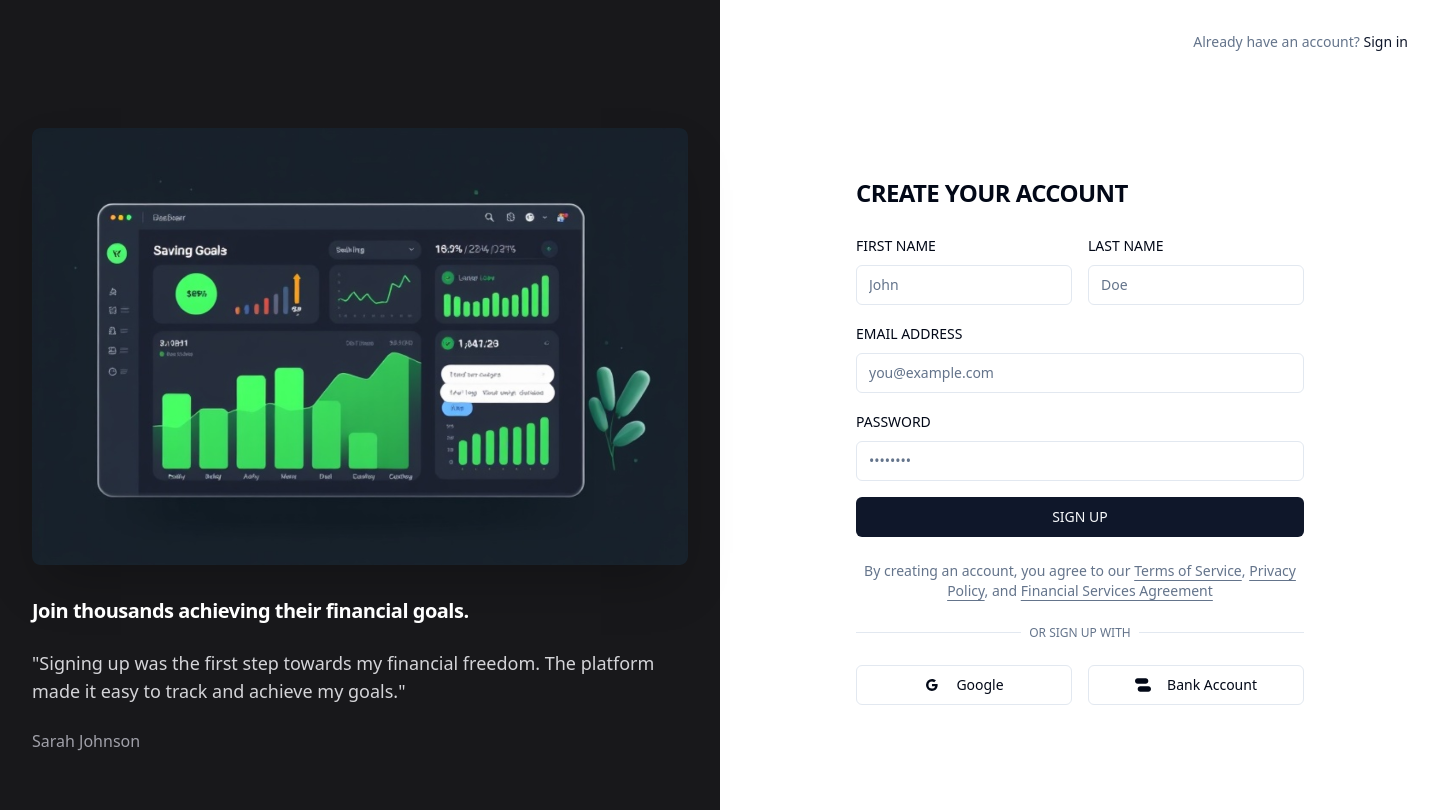
it: Register › should validate password length
In the password field labelled "PASSWORD": (1080, 461) [856,441,1304,481], type "short"
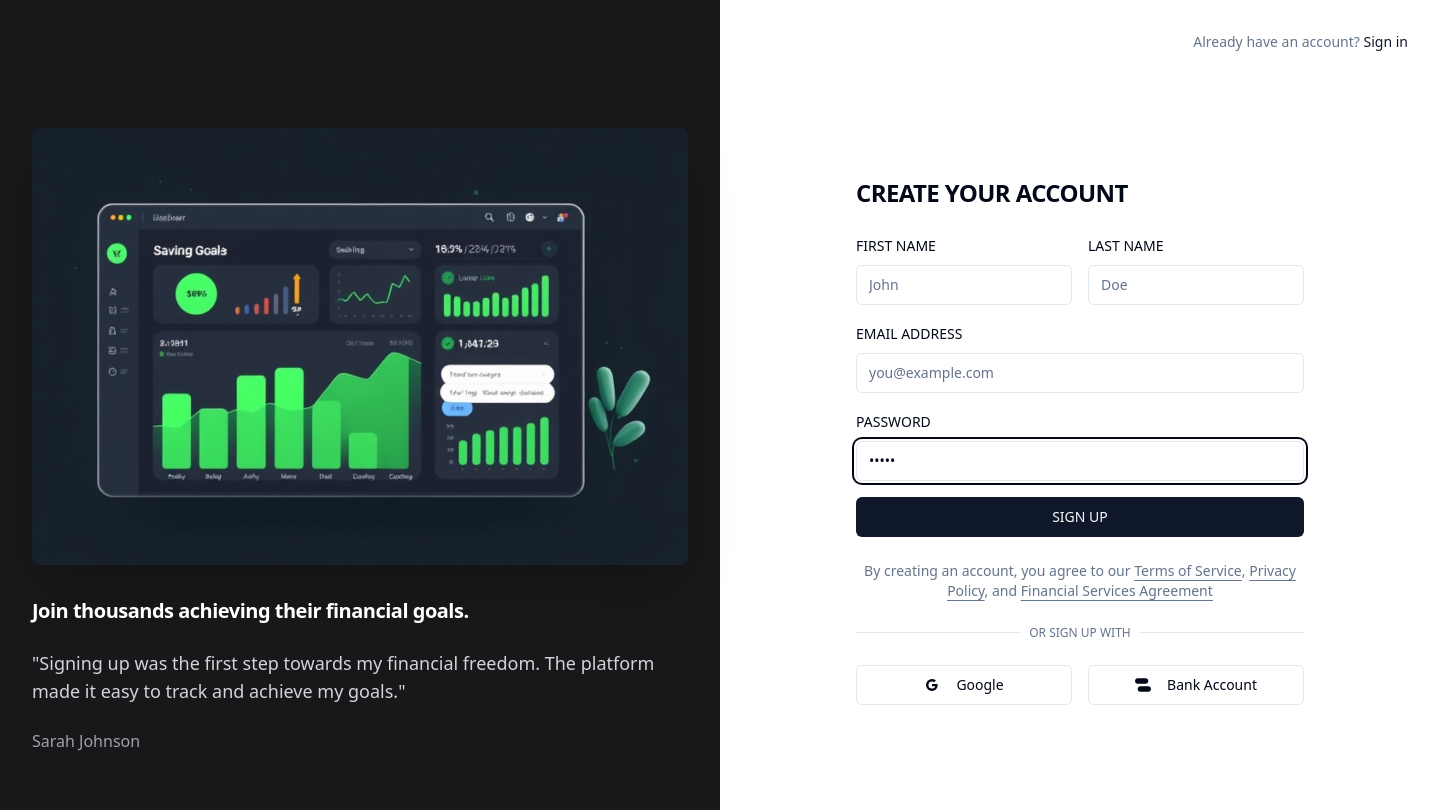
Click the button "SIGN UP": (1080, 517) [856,497,1304,537]
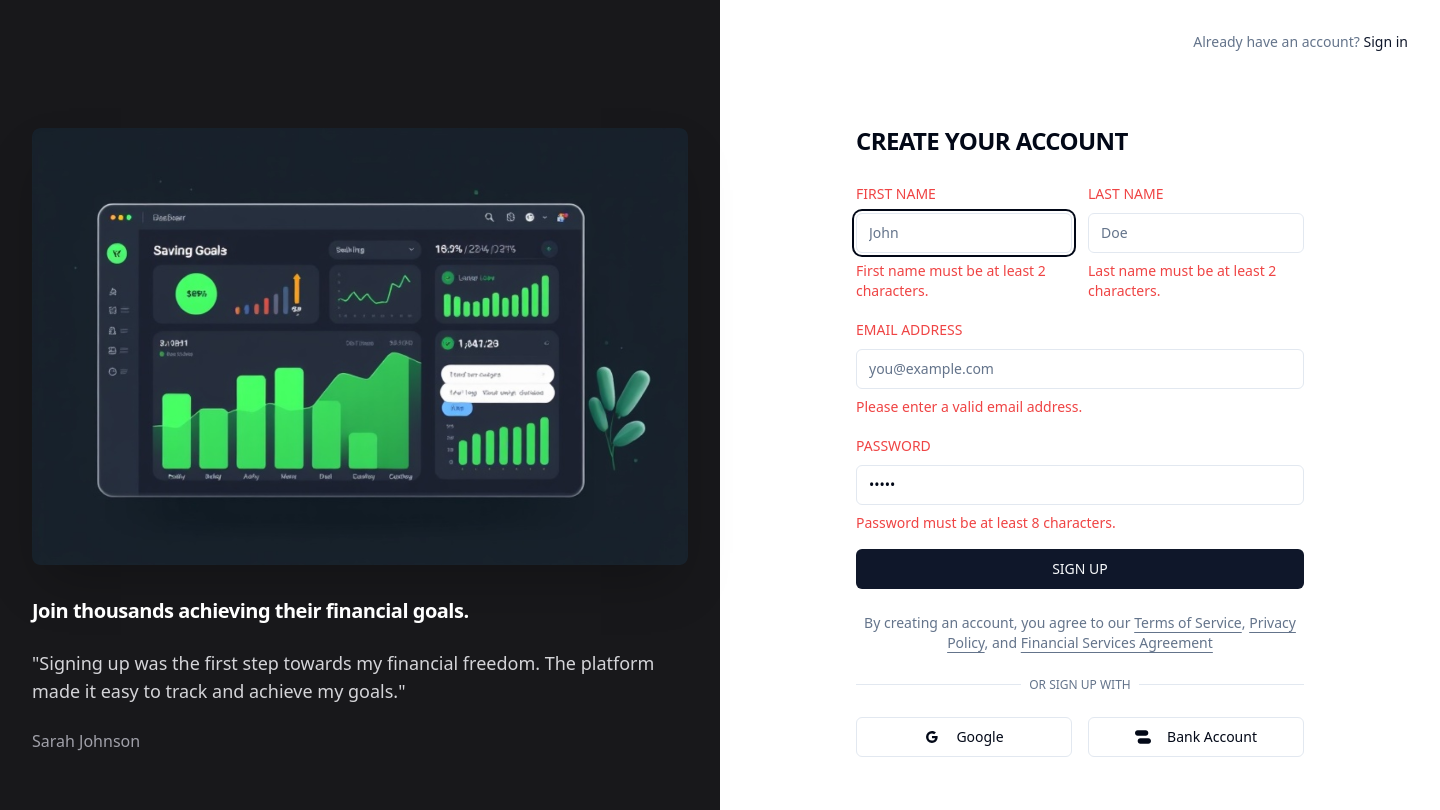
Result: the text "Password must be at least 8 characters." is shown at [856,513,1116,532]
